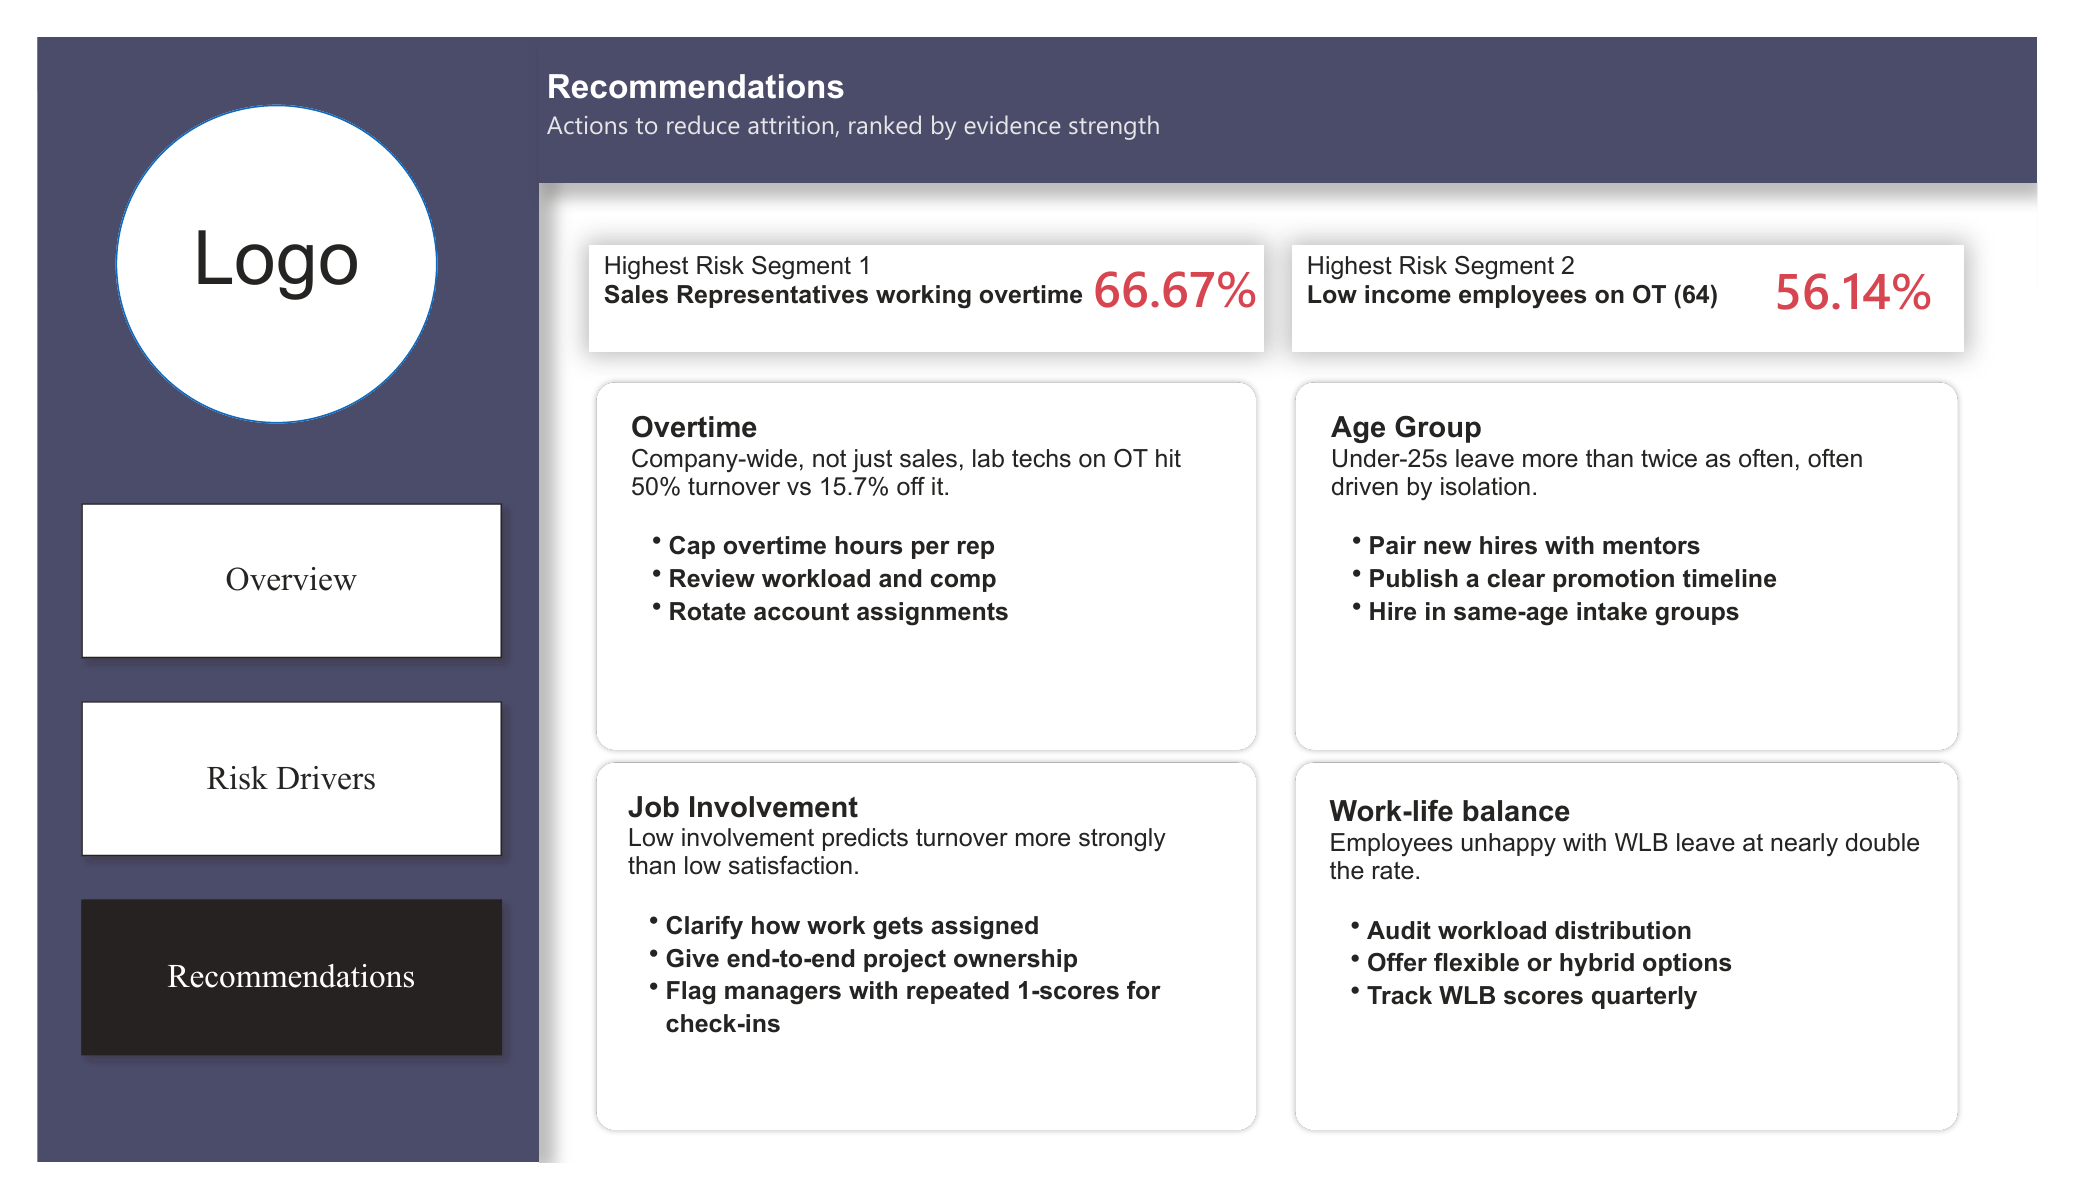

What the dashboard file says about the page in this screenshot:
{"tool":"powerbi","page":{"name":"Recommendations","canvas":[1280,720],"ordinal":2},"visuals":[{"type":"shape","box":[0,0,321,720],"z":0},{"type":"shape","box":[50,43,205.8,203.8],"z":1000},{"type":"shape","box":[321,0,959,93],"z":2000},{"type":"pageNavigator","box":[19,289,287,371],"z":3000},{"type":"textbox","box":[321,14.6,479.5,63.2],"z":4000},{"type":"textbox","box":[803.4,132.9,430,68],"z":5000},{"type":"cardVisual","fields":{"Data":["Dim_Demographics.High-Risk Attrition"]},"box":[1083.4,124.9,167,68],"z":6000},{"type":"textbox","box":[353.1,133.3,431.9,68.1],"z":7000},{"type":"shape","box":[354,217,430,243],"z":8000},{"type":"shape","box":[354,460,430,243],"z":9000},{"type":"shape","box":[801,217,432,243],"z":10000},{"type":"shape","box":[801,460,432,243],"z":11000},{"type":"textbox","box":[375,234,388,75],"z":12000},{"type":"textbox","box":[823,234,388,75],"z":13000},{"type":"cardVisual","fields":{"Data":["Fact_Attrition.Highk-Risk Attrition2"]},"box":[646.8,124.5,166.3,68.1],"z":14000},{"type":"textbox","box":[375,309,388,132],"z":15000},{"type":"textbox","box":[823,309,388,132],"z":16000},{"type":"textbox","box":[373,477,388,75],"z":17000},{"type":"textbox","box":[373,552,388,132],"z":18000},{"type":"textbox","box":[822,480,388,75],"z":19000},{"type":"textbox","box":[822,555,388,132],"z":20000},{"type":"textbox","box":[81.7,108.9,142,71],"z":21000}]}

Visuals, with their boxes on the page's 1280x720 design canvas (x1, y1, x2, y2). These are canvas units, not pixel positions in the 2075x1200 screenshot, which may show the page scaled, cropped or inside an application window:
shape: bbox=[0, 0, 321, 720]
shape: bbox=[50, 43, 256, 247]
shape: bbox=[321, 0, 1280, 93]
pageNavigator: bbox=[19, 289, 306, 660]
textbox: bbox=[321, 15, 800, 78]
textbox: bbox=[803, 133, 1233, 201]
cardVisual - Dim_Demographics.High-Risk Attrition: bbox=[1083, 125, 1250, 193]
textbox: bbox=[353, 133, 785, 201]
shape: bbox=[354, 217, 784, 460]
shape: bbox=[354, 460, 784, 703]
shape: bbox=[801, 217, 1233, 460]
shape: bbox=[801, 460, 1233, 703]
textbox: bbox=[375, 234, 763, 309]
textbox: bbox=[823, 234, 1211, 309]
cardVisual - Fact_Attrition.Highk-Risk Attrition2: bbox=[647, 124, 813, 193]
textbox: bbox=[375, 309, 763, 441]
textbox: bbox=[823, 309, 1211, 441]
textbox: bbox=[373, 477, 761, 552]
textbox: bbox=[373, 552, 761, 684]
textbox: bbox=[822, 480, 1210, 555]
textbox: bbox=[822, 555, 1210, 687]
textbox: bbox=[82, 109, 224, 180]
